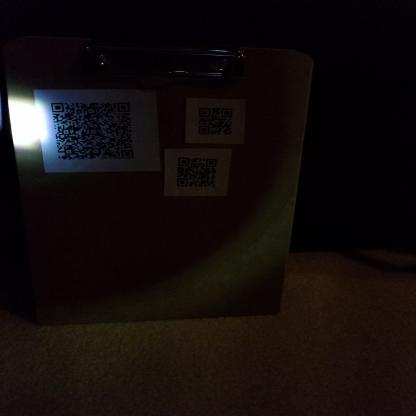qr: (47, 98, 137, 164), (176, 154, 222, 193), (193, 103, 237, 140)
